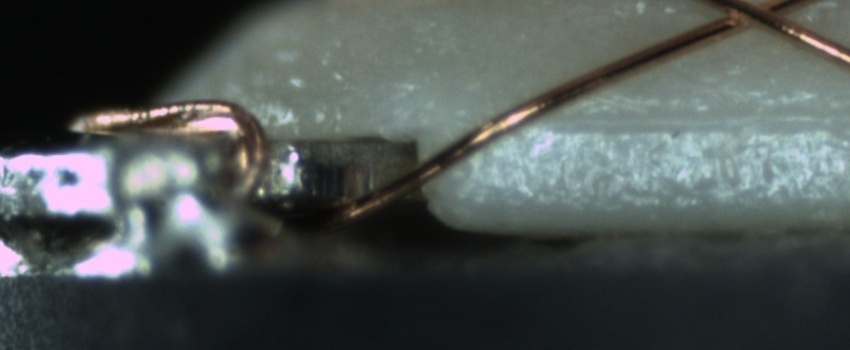CL: (713, 0, 802, 32)
DL: (512, 86, 849, 154)
TE: (68, 89, 274, 201)
